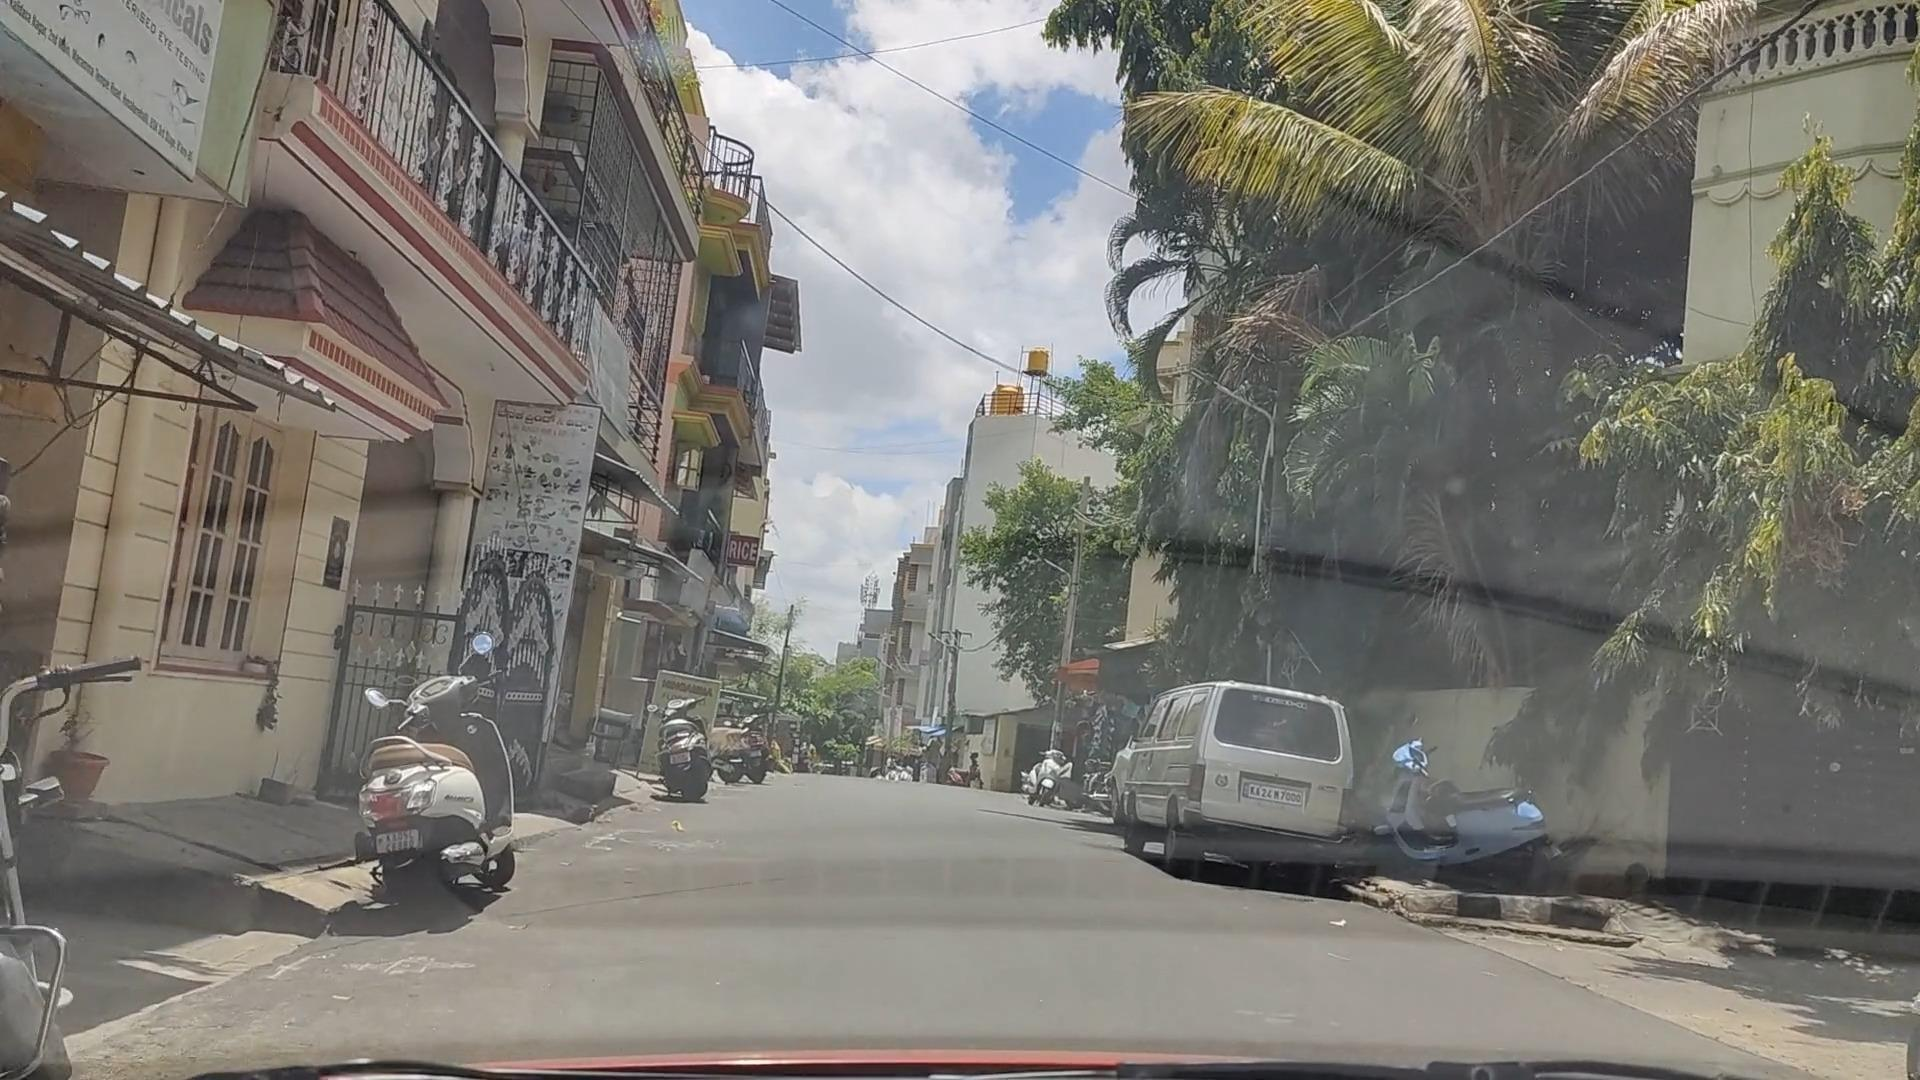LMV: (1122, 682, 1352, 890), (351, 654, 505, 916)
